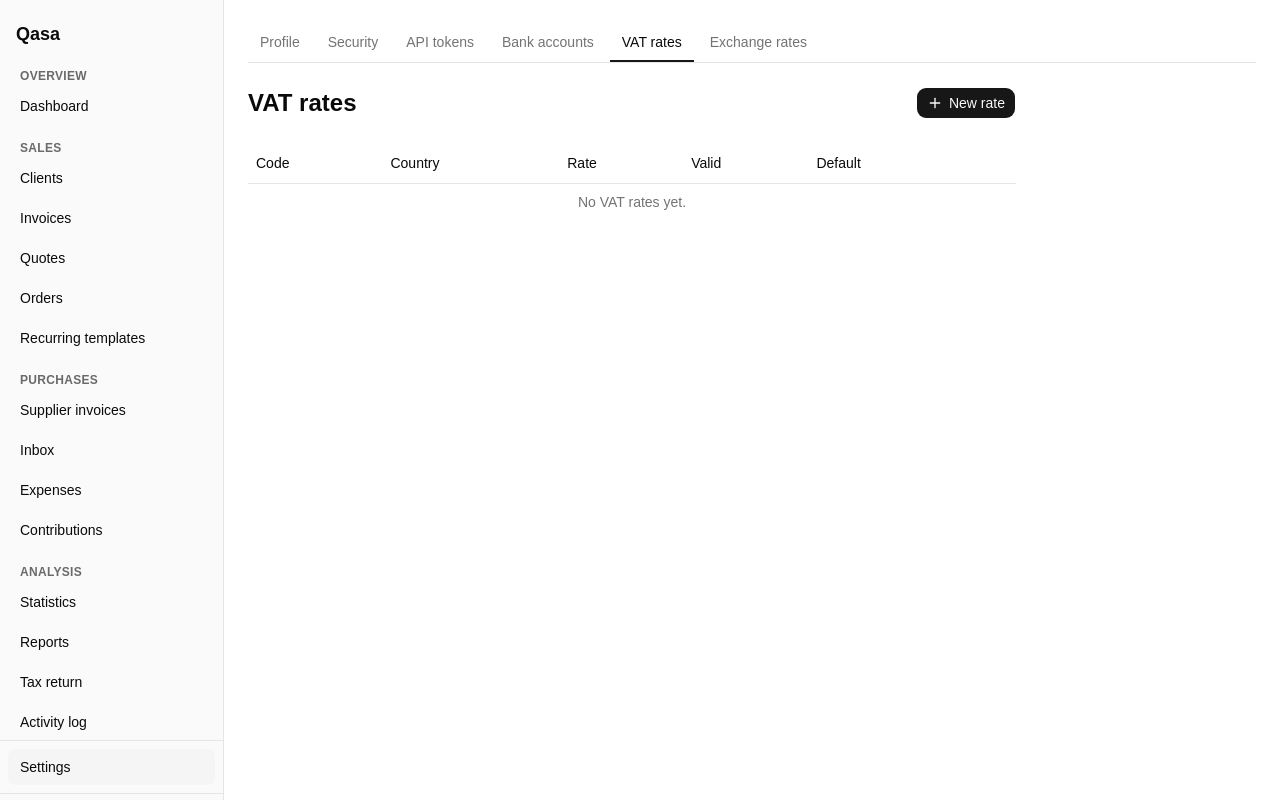
Test: VAT rates settings › creates a VAT rate
Step 1. Click the button "New rate" → (966, 103), box [916,87,1016,119]
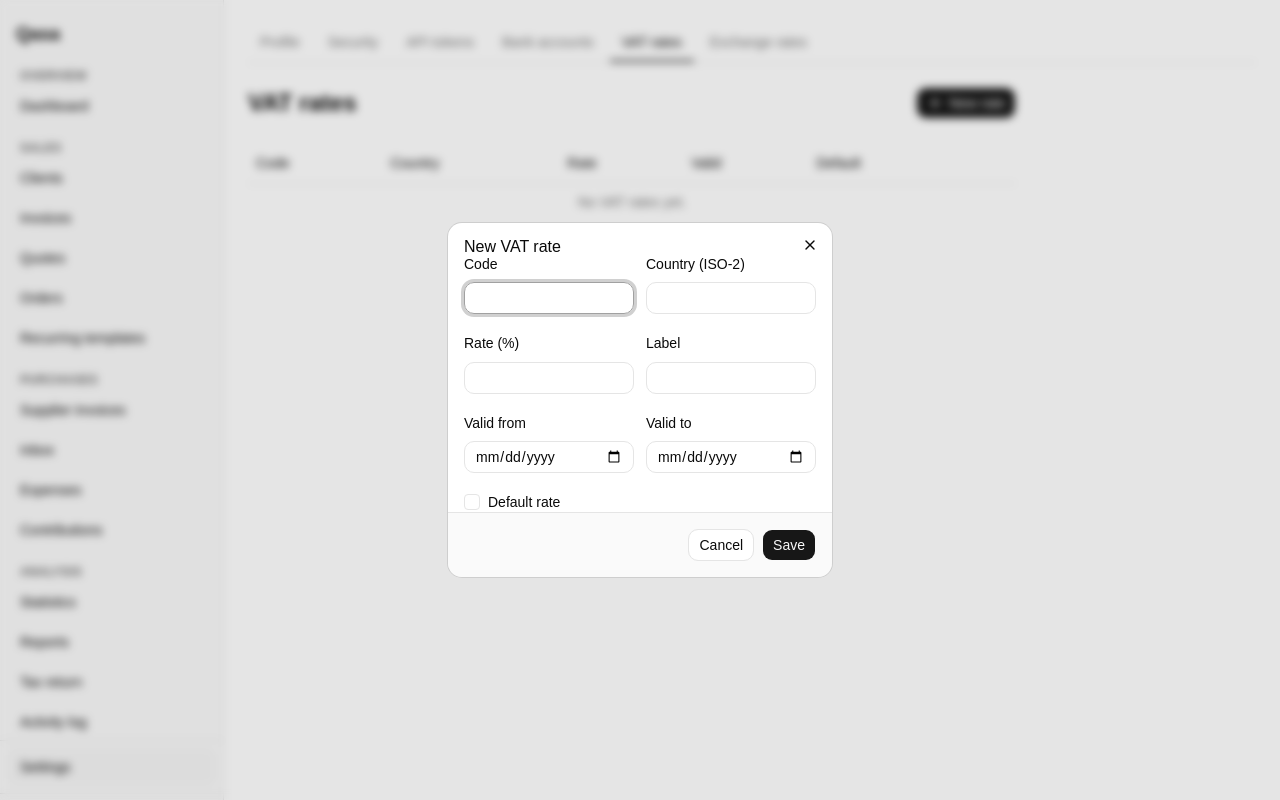
Step 2. Type "standard" into the field labelled "Code" → (549, 298), box [464,282,634,314]
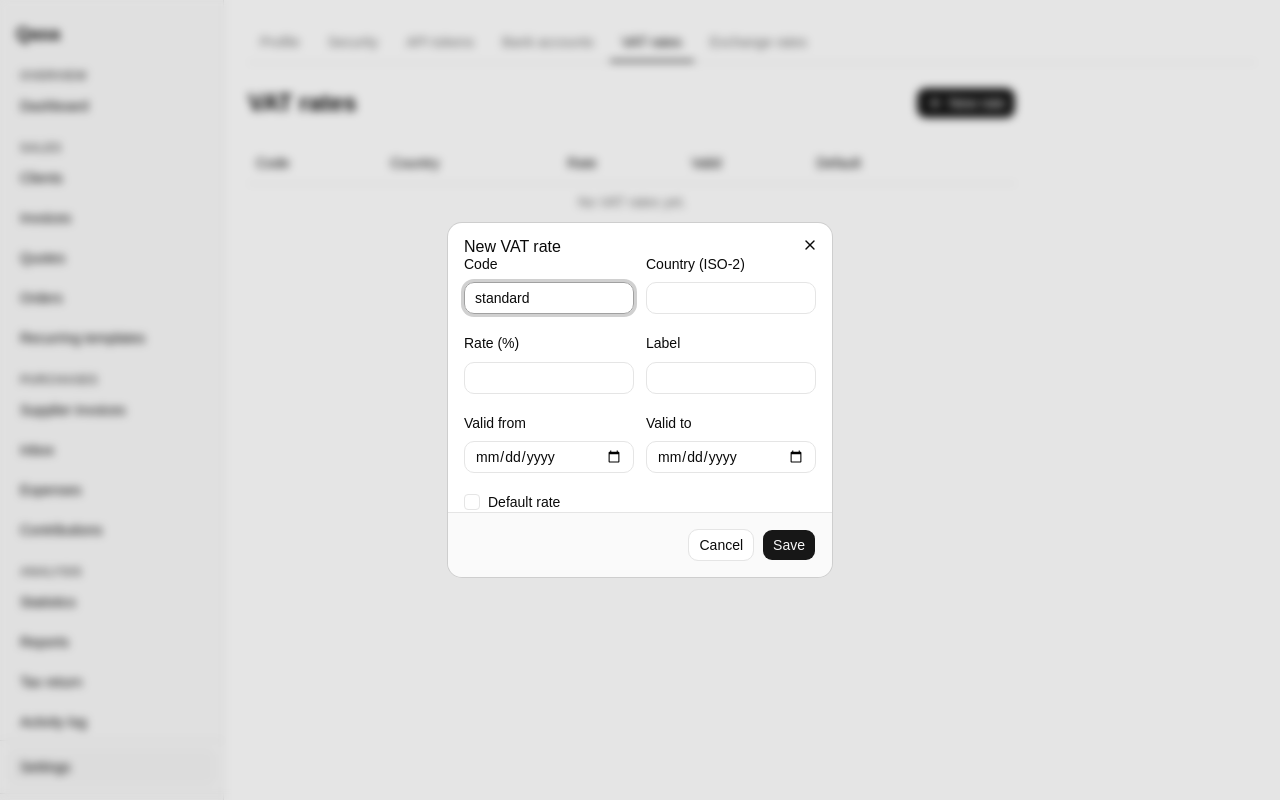
Step 3. Type "SK" into the field labelled "Country (ISO-2)" → (731, 298), box [646,282,816,314]
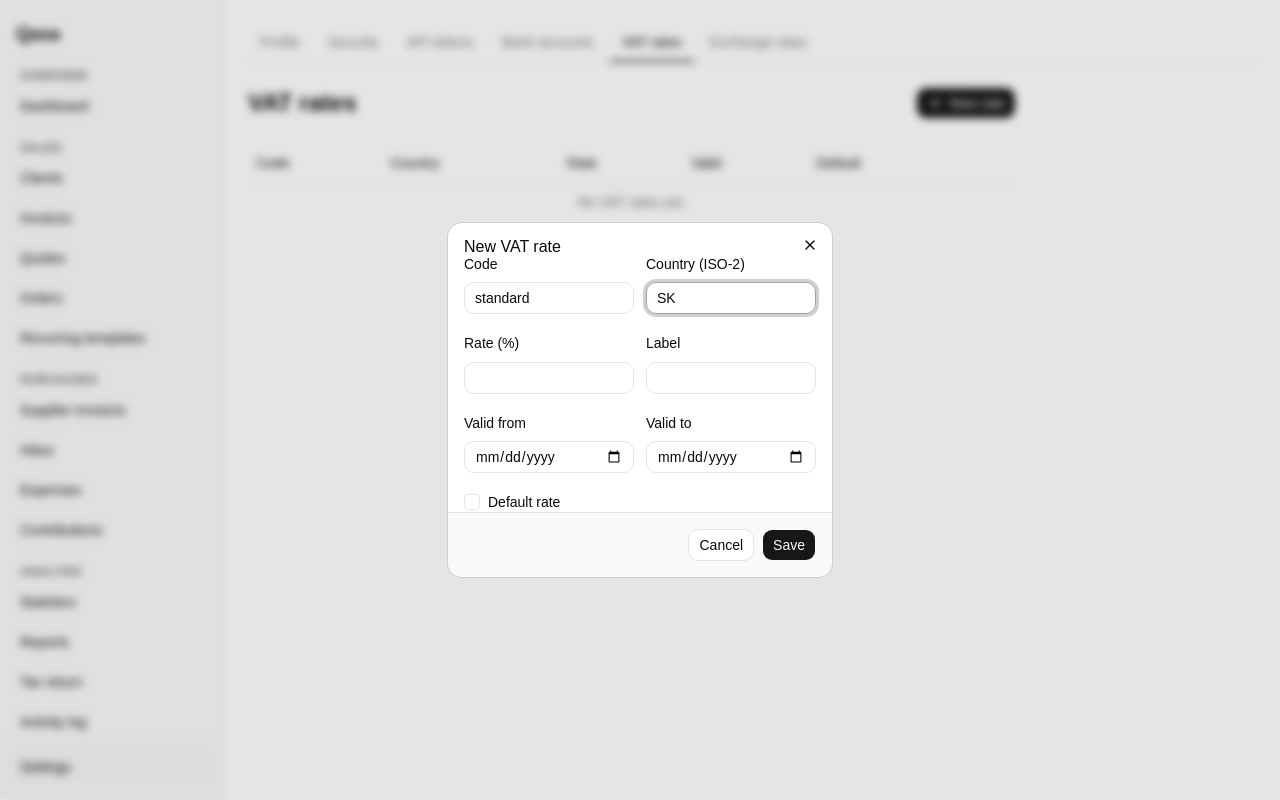
Step 4. Type "20" into the number field labelled "Rate (%)" → (549, 378), box [464,362,634,394]
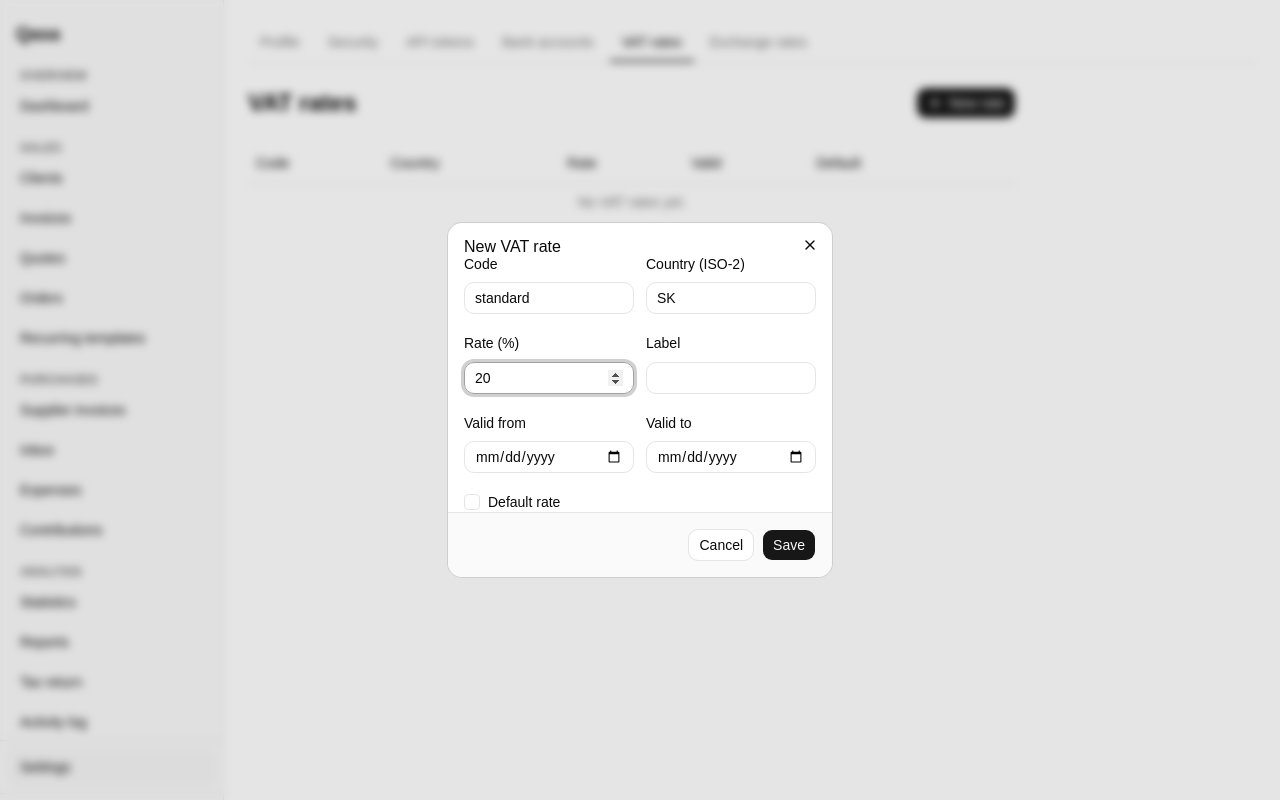
Step 5. Click the button "Save" → (789, 545), box [762,529,816,561]
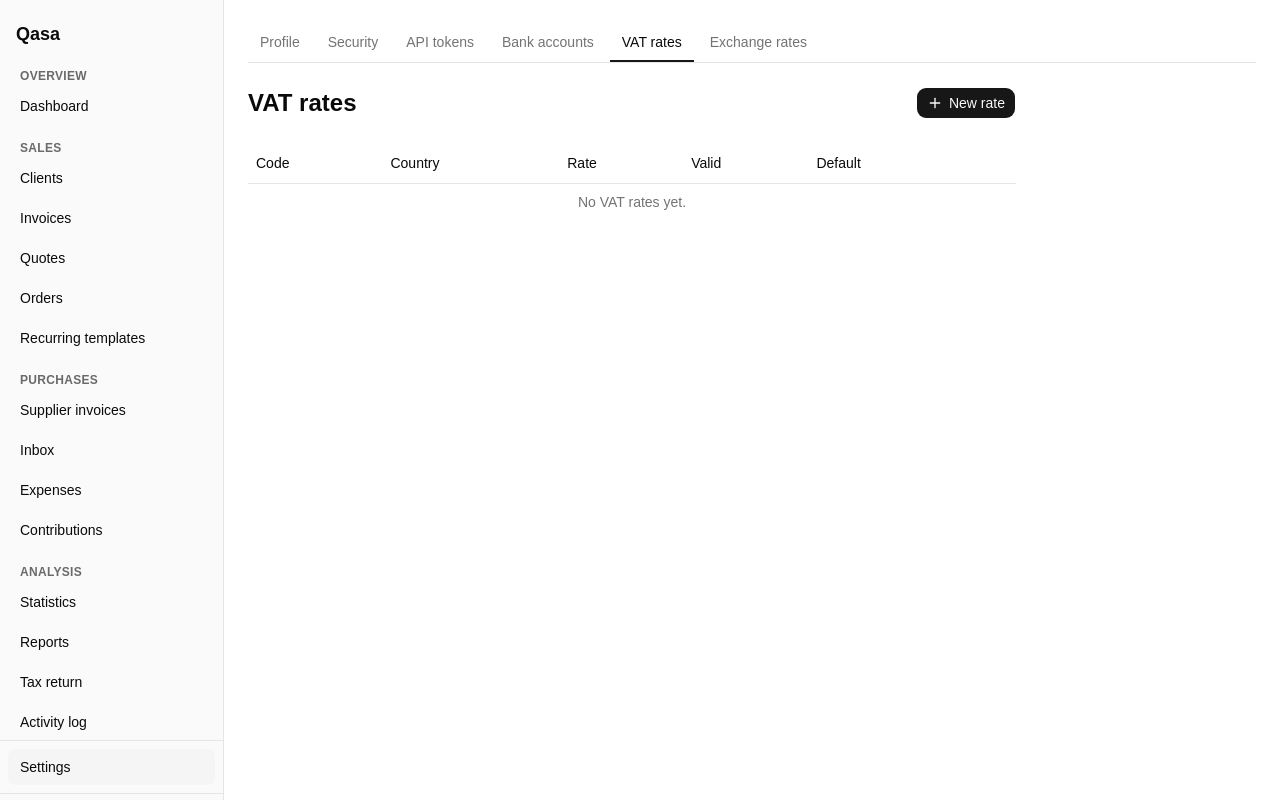
expect the dialog is gone: met
